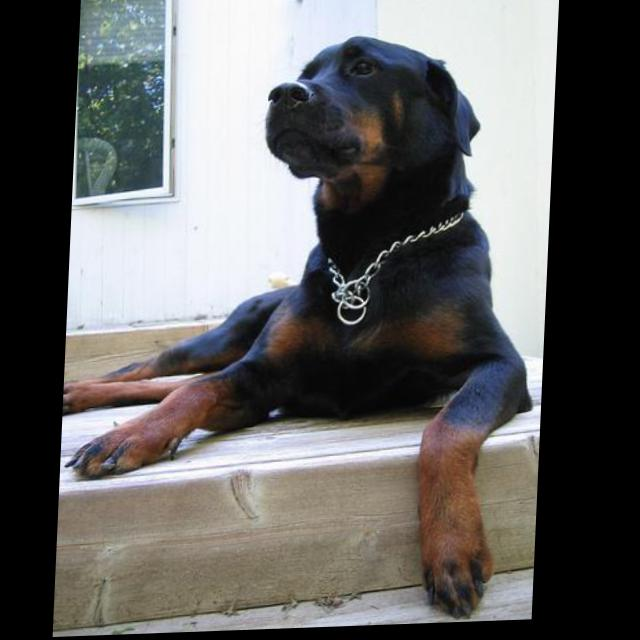rottweiler: (59, 32, 551, 635)
